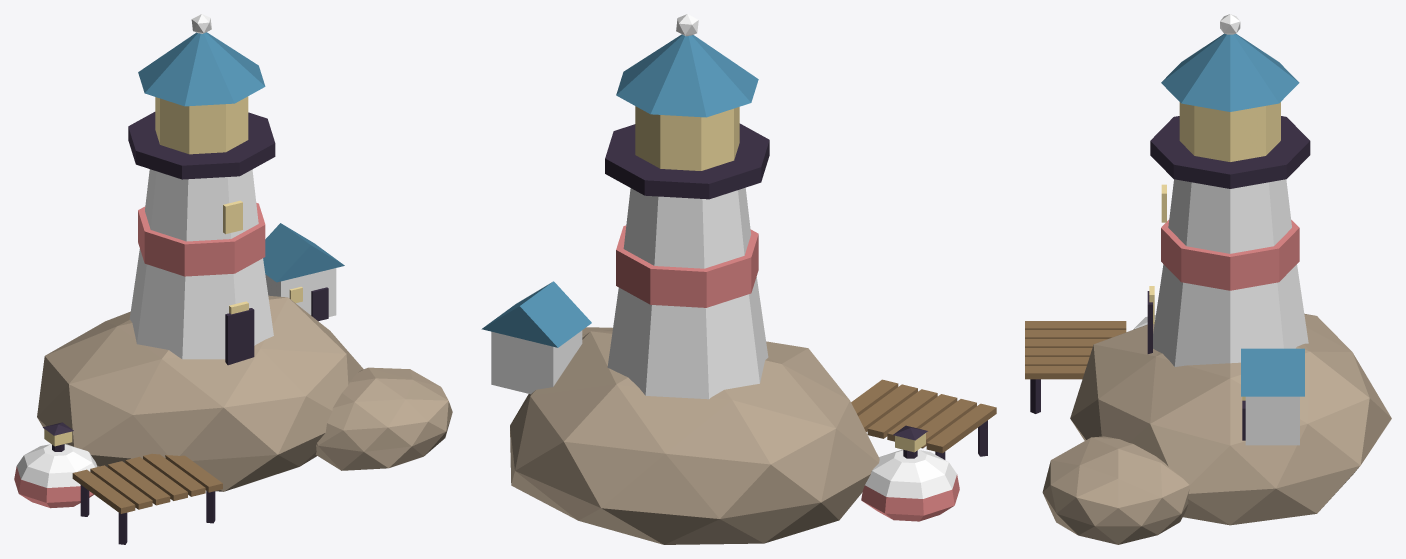
File: ocean-landmark-s3.glb
The picture shows the model from 3 angles, left to right: view 1: azimuth 30°, elevation 25°; view 2: azimuth 150°, elevation 25°; view 3: azimuth 270°, elevation 25°; orthographic projection. The views are drawn at different scales.
Parts seen in each view (by area): view 1: ocean-landmark-s3; view 2: ocean-landmark-s3; view 3: ocean-landmark-s3.
Part boxes in pixels (x1=…): ocean-landmark-s3: x1=14, y1=14, x2=452, y2=544; ocean-landmark-s3: x1=481, y1=14, x2=996, y2=544; ocean-landmark-s3: x1=1025, y1=14, x2=1391, y2=544.
Bounding box in the file's own units: 1.81 × 1.82 × 1.38.
